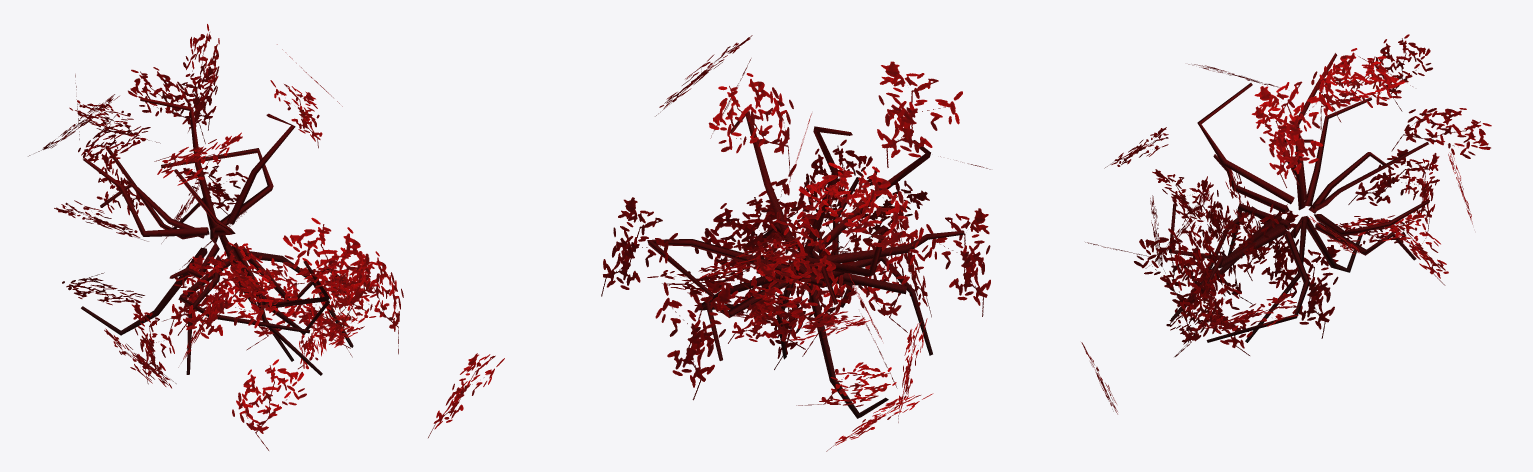
Rendered from bush_desert_shrub_a.glb.
The picture shows the model from 3 angles, left to right: view 1: azimuth 30°, elevation 25°; view 2: azimuth 150°, elevation 25°; view 3: azimuth 270°, elevation 25°; orthographic projection. The views are drawn at different scales.
Parts seen in each view (by area): view 1: bush_desert_shrub_a; view 2: bush_desert_shrub_a; view 3: bush_desert_shrub_a.
Boxes of the visible parts, <box> form: bush_desert_shrub_a: <box>28,24,504,450</box>; bush_desert_shrub_a: <box>601,35,990,451</box>; bush_desert_shrub_a: <box>1081,34,1491,414</box>.
Bounding box in the file's own units: 1.11 × 1.08 × 1.2.
1 material, 1 textured.
